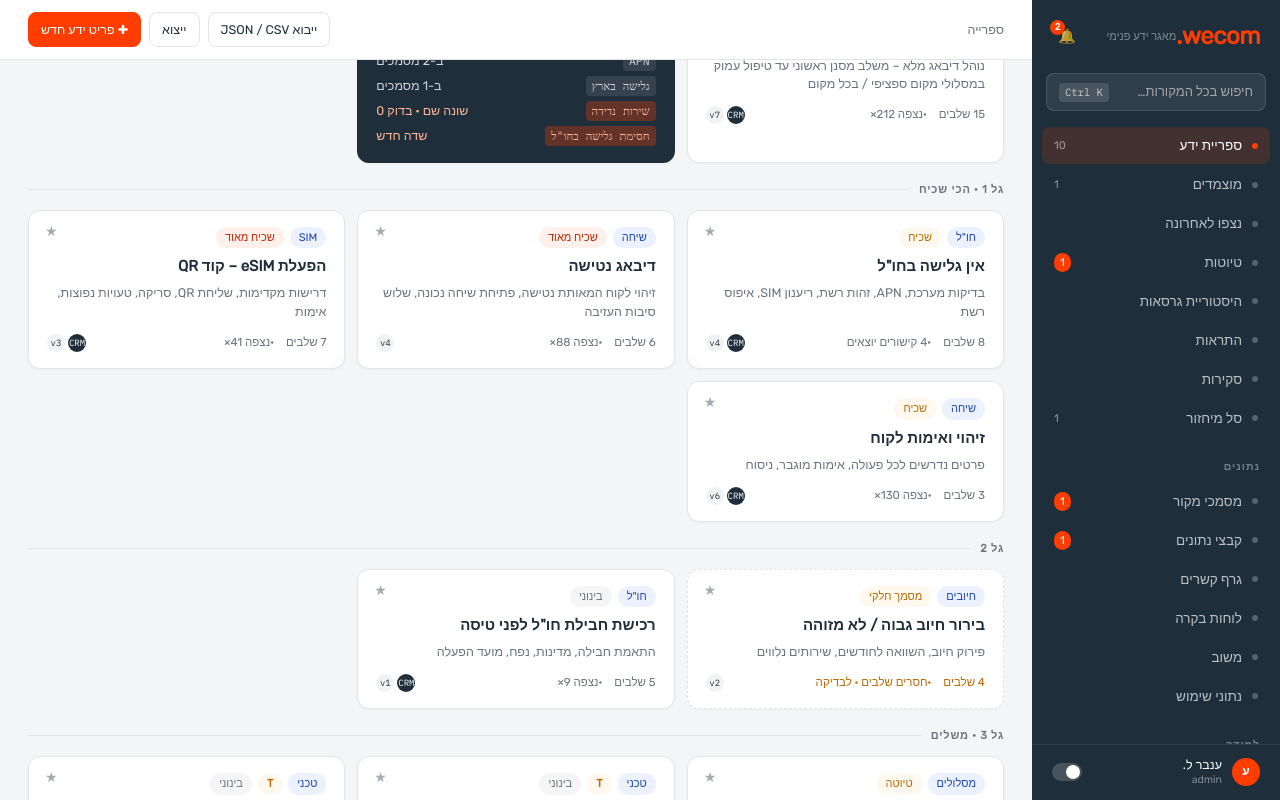
Scenario: palette actions › offers notifications, reviews and templates
(page scrolled)
Step 1. Type keys "{Control>}k{/Control}"
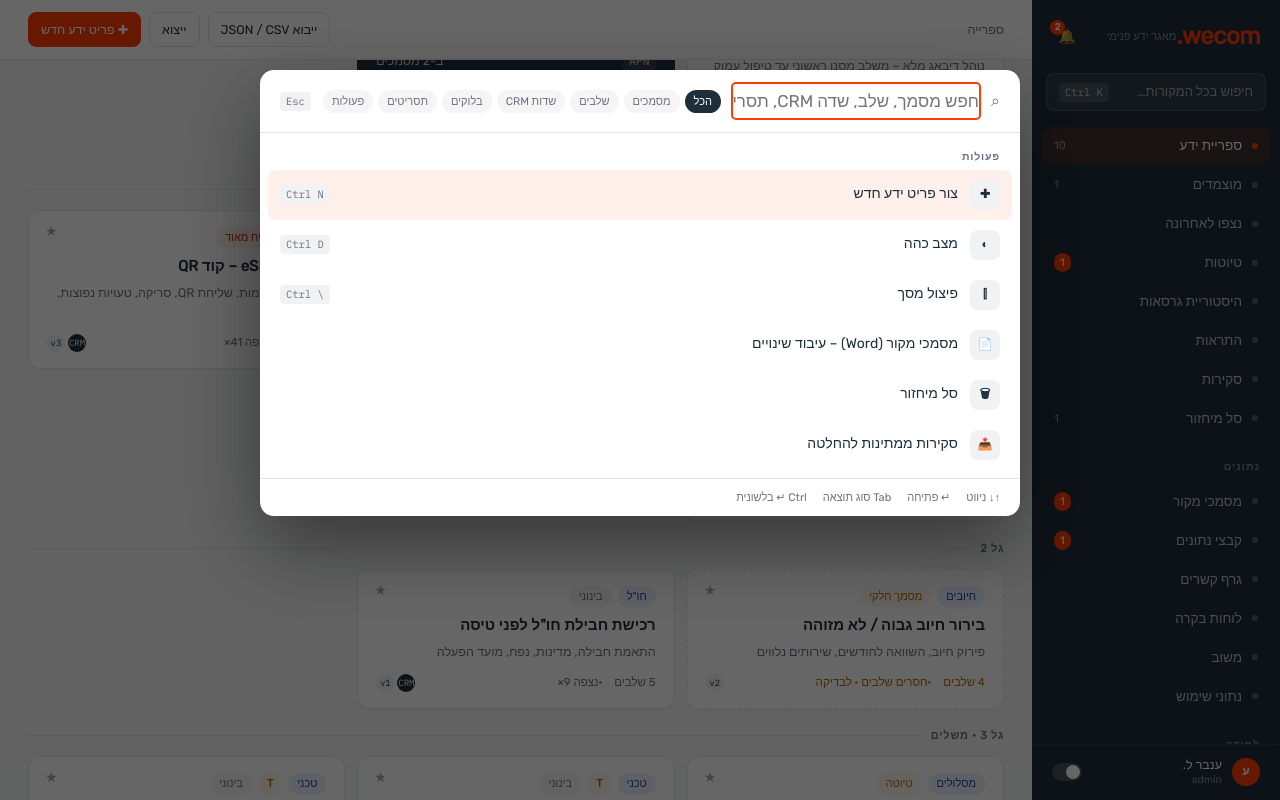
Step 2. Type "התראות" into the field → (856, 101), box [733,84,979,118]
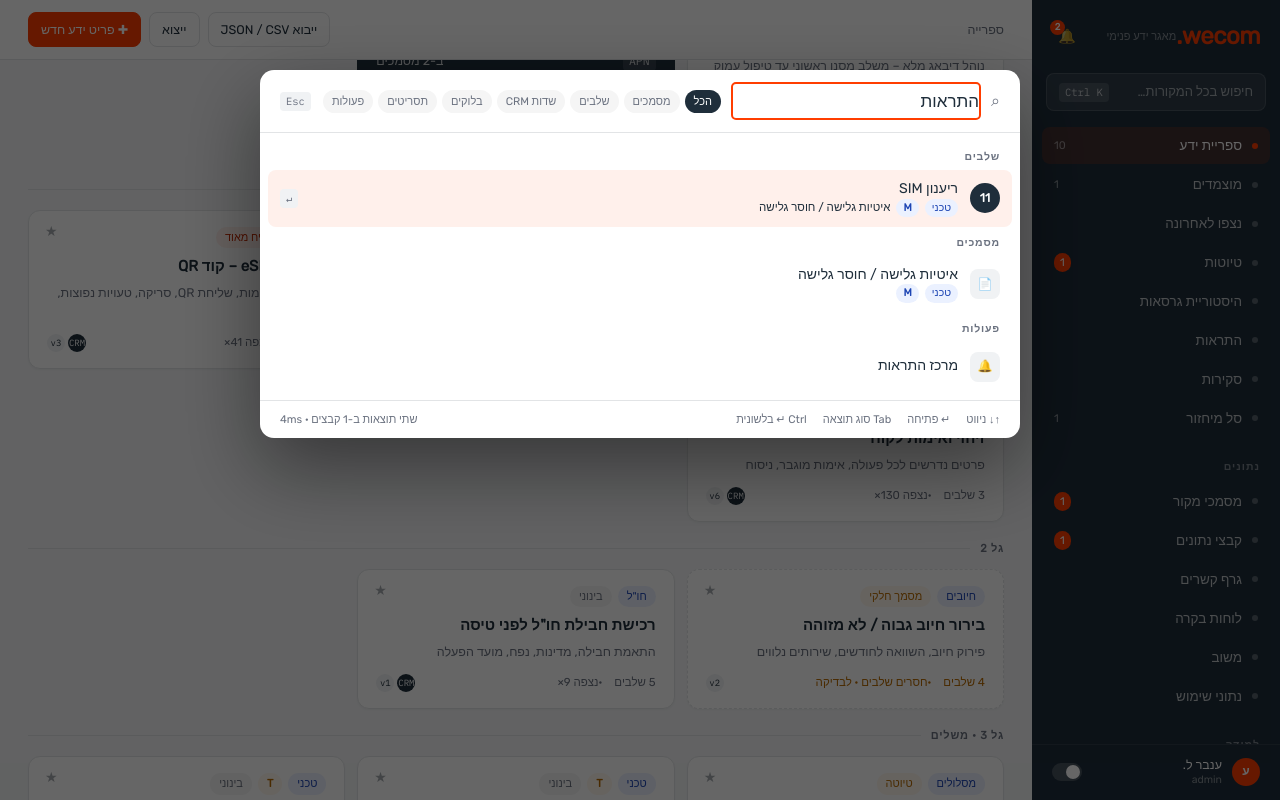
Step 3. Click the text "מרכז התראות" → (918, 366), box [878,357,958,374]
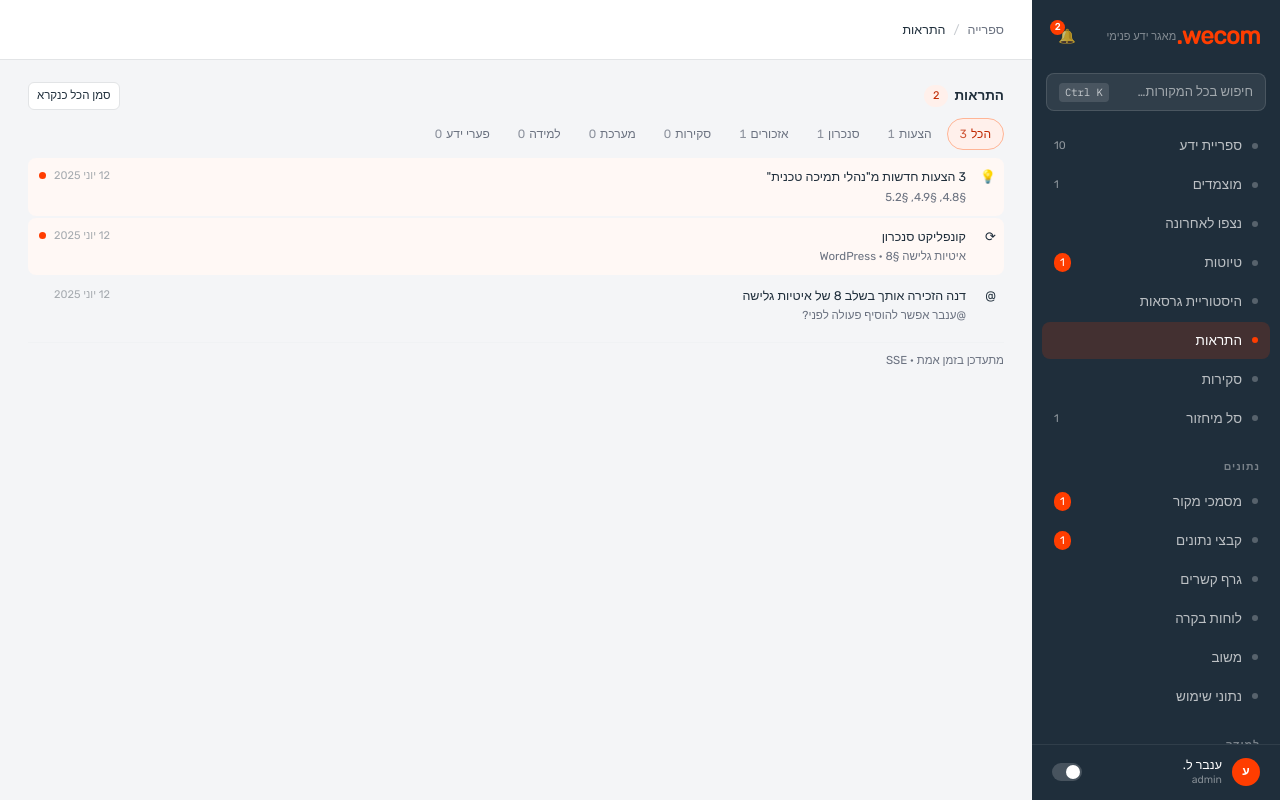
Check: the button "סמן הכל כנקרא" is shown, box [28,82,120,110]
